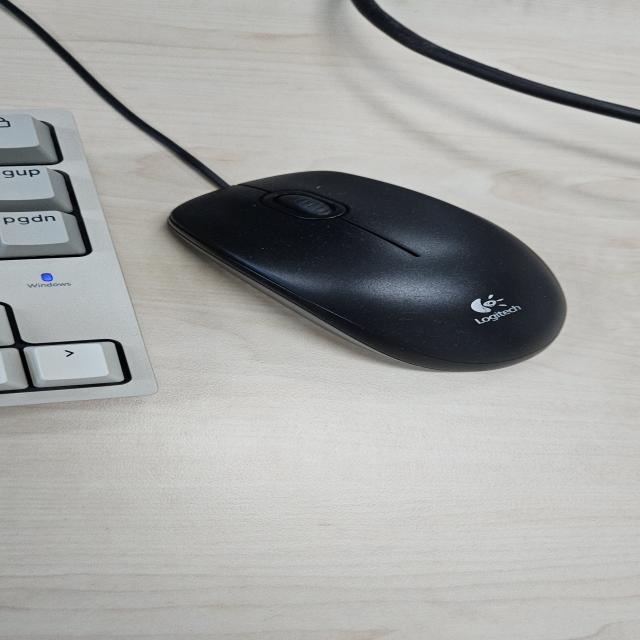Keyboard: (1, 108, 159, 408)
Mouse: (165, 169, 570, 373)
